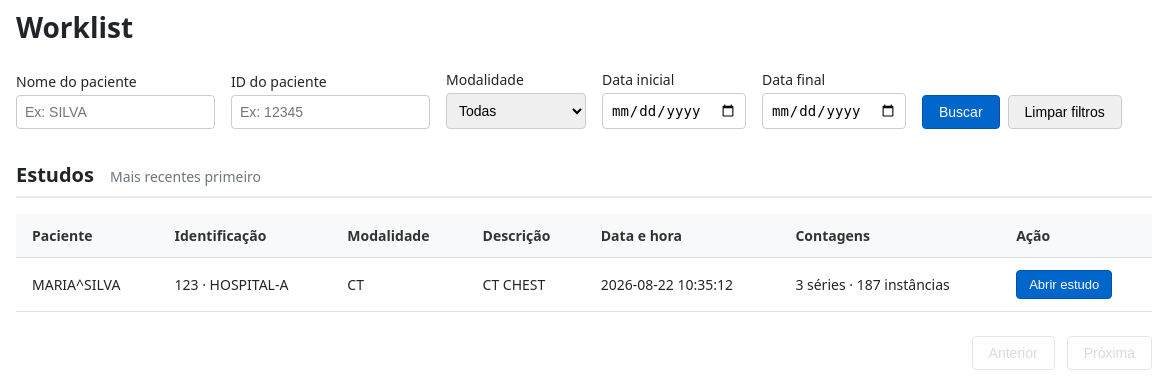
WorklistPage › exibe mensagem quando busca com filtros não retorna resultados
Type "INEXISTENTE" into the field named "patientName".
click(116, 112); type("INEXISTENTE")  # box [16,95,215,129]
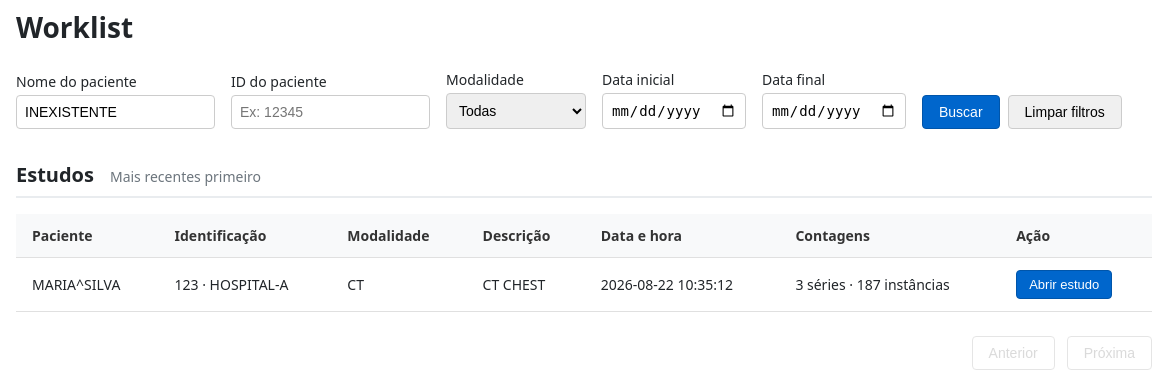
Submit the form, box [16,70,1152,129]
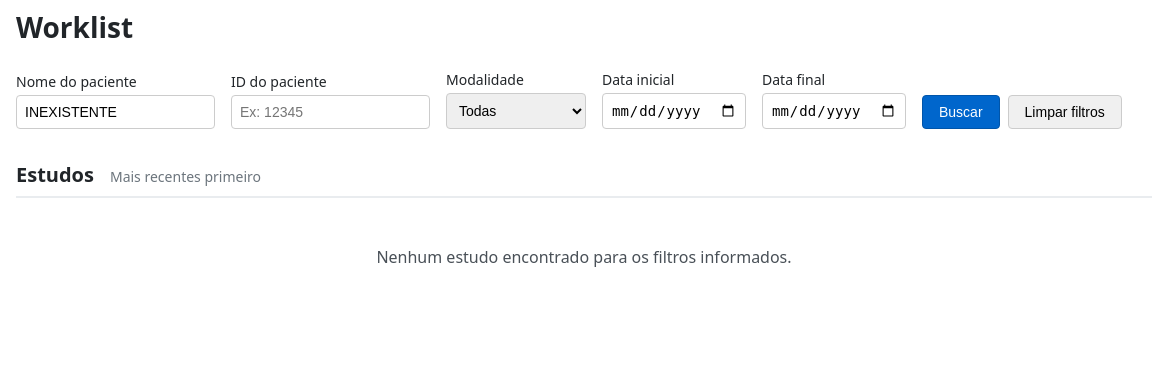
Check: the message "Nenhum estudo encontrado para os filtros informados." is shown, box [376,246,792,268]
